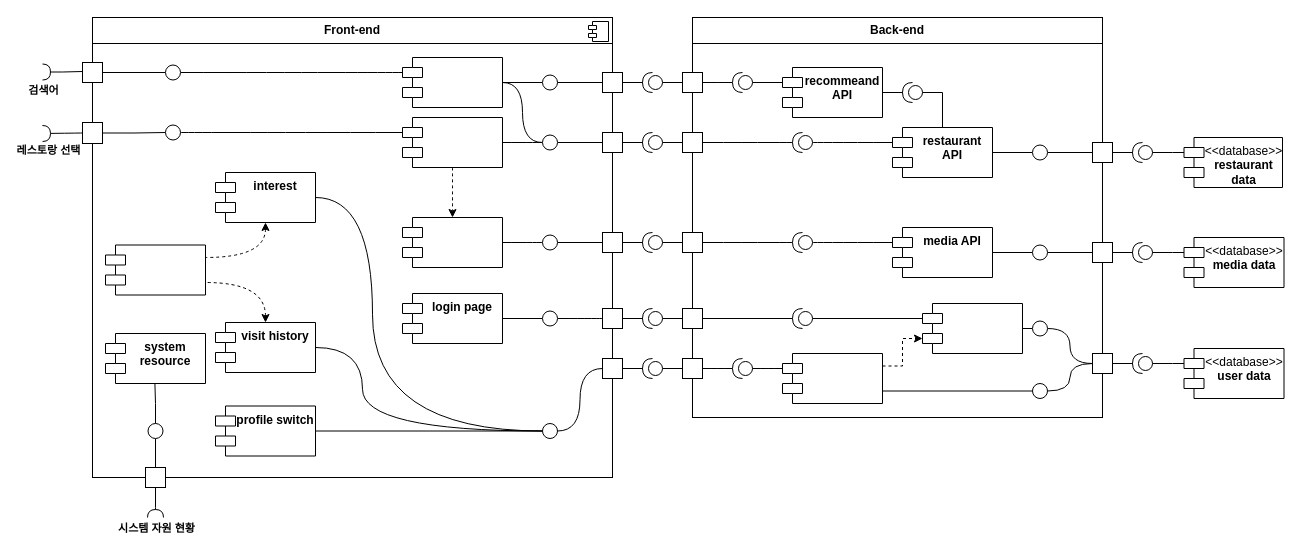
This 1302x552 diagram has some shape labels left out. The shapes that lost their labels are listed below. From the top down, each one's centre as x and y in pixels, then its label:
[452,82]: main page
[452,142]: restaurant page
[452,242]: media player
[155,269]: user page
[972,328]: login API
[832,378]: user data API
